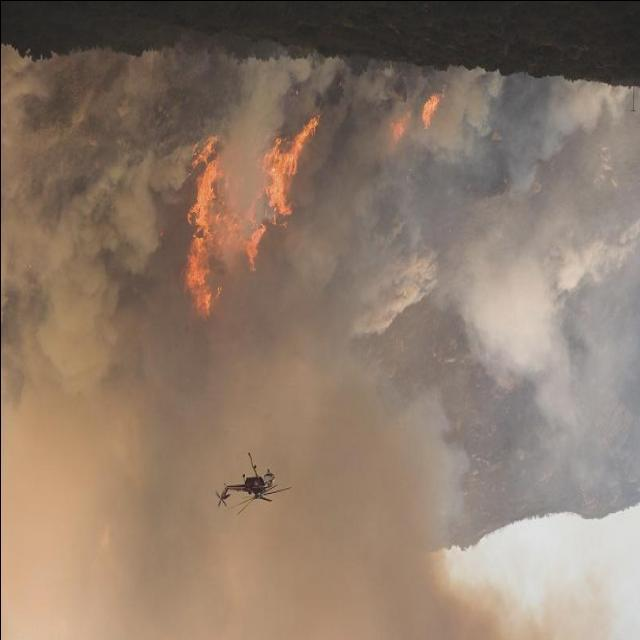Fire: (9, 43, 631, 632), (172, 108, 327, 336), (382, 81, 445, 156)
